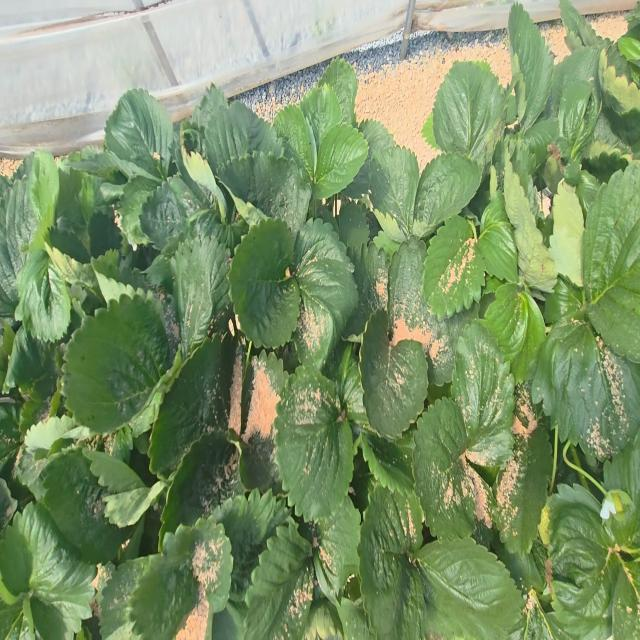Leaves: (531, 320, 640, 459), (63, 296, 170, 433), (387, 238, 479, 384), (40, 445, 150, 564), (0, 503, 96, 639), (149, 334, 237, 478), (273, 366, 353, 520), (582, 161, 640, 362), (548, 484, 619, 637), (418, 537, 524, 639), (291, 219, 358, 370), (360, 486, 425, 639), (202, 100, 285, 218), (451, 321, 514, 466), (211, 488, 290, 603), (96, 551, 199, 639), (229, 220, 298, 348), (413, 399, 476, 538), (360, 311, 428, 439), (219, 151, 311, 244), (244, 523, 315, 639), (162, 431, 243, 531), (492, 420, 552, 555), (433, 62, 505, 174), (170, 234, 232, 360), (163, 519, 233, 620), (239, 350, 288, 491), (504, 159, 556, 291), (479, 283, 545, 382), (423, 216, 486, 317), (104, 88, 174, 178), (509, 5, 553, 130), (415, 153, 481, 236), (311, 495, 360, 603), (15, 249, 70, 342), (341, 241, 390, 343), (369, 144, 419, 241), (0, 174, 37, 304), (343, 119, 400, 199), (314, 123, 368, 197), (139, 182, 197, 250), (298, 82, 353, 149), (478, 190, 518, 281), (549, 183, 584, 286), (273, 101, 316, 180), (117, 176, 158, 248), (317, 57, 358, 124), (545, 278, 583, 324), (338, 202, 369, 249)
